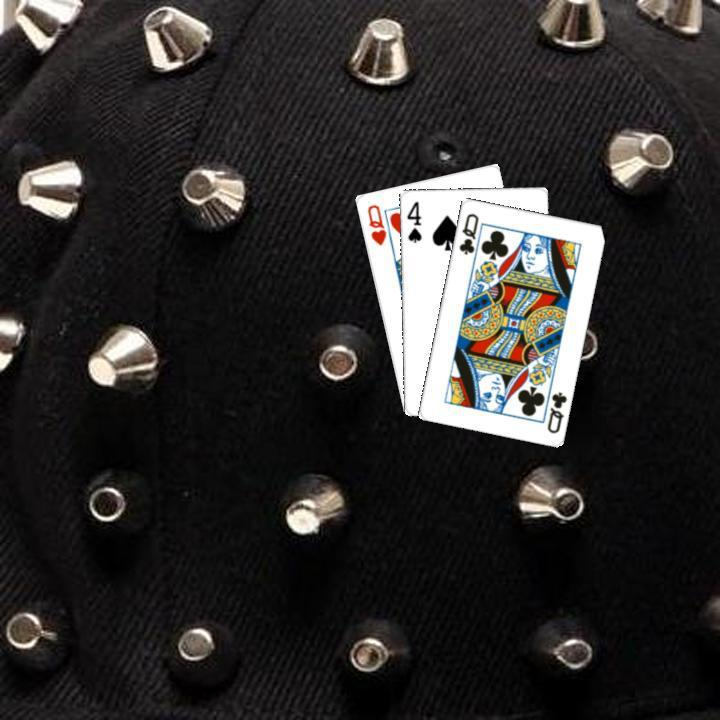4: (402, 197, 423, 244)
Q: (542, 387, 569, 435), (454, 209, 480, 256), (363, 200, 388, 247)
